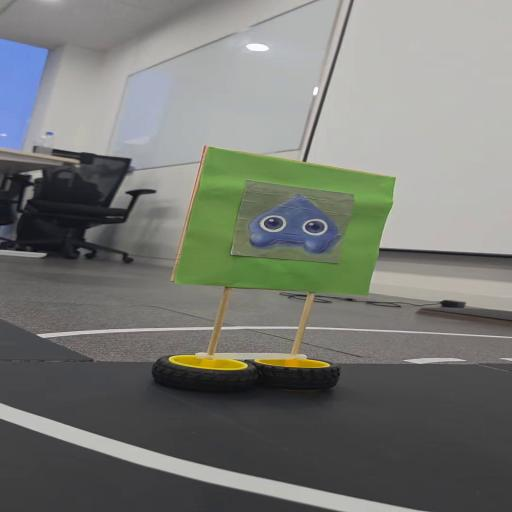Sign_B: (174, 142, 401, 398)
